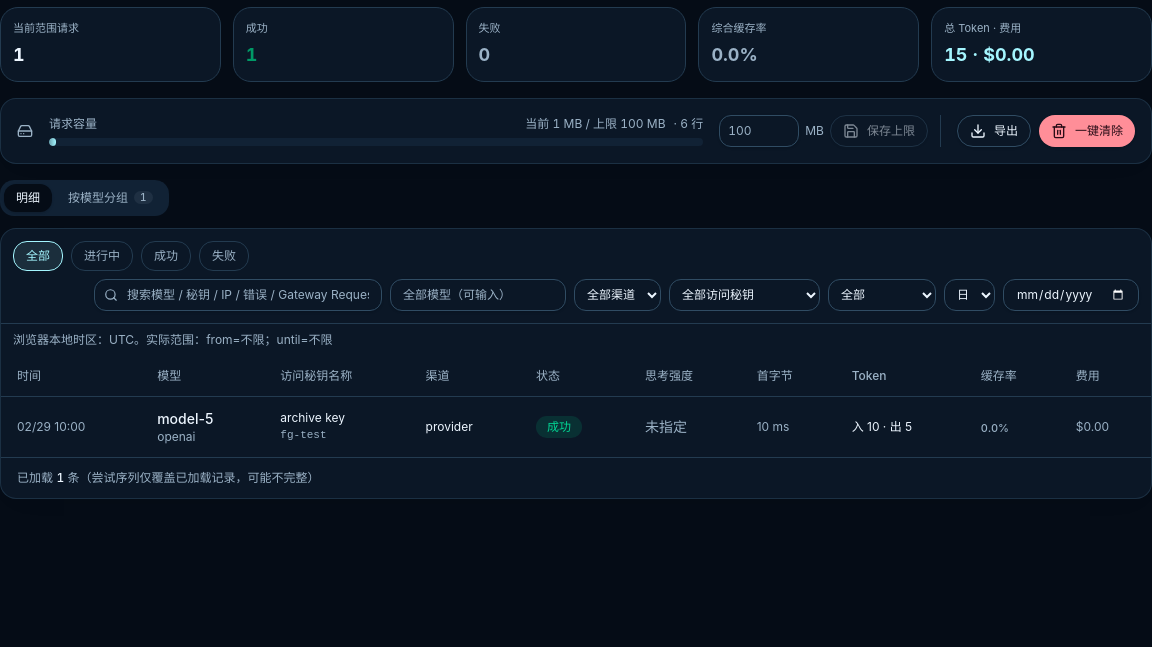
Test case: Requests routing diagnostics › lists candidate exclusions one per line instead of one JSON blob
Check: the text "model-5" is shown, box [157,410,213,426]
Click the text "model-5" at (576, 426), box [1,396,1151,456]
(page scrolled)
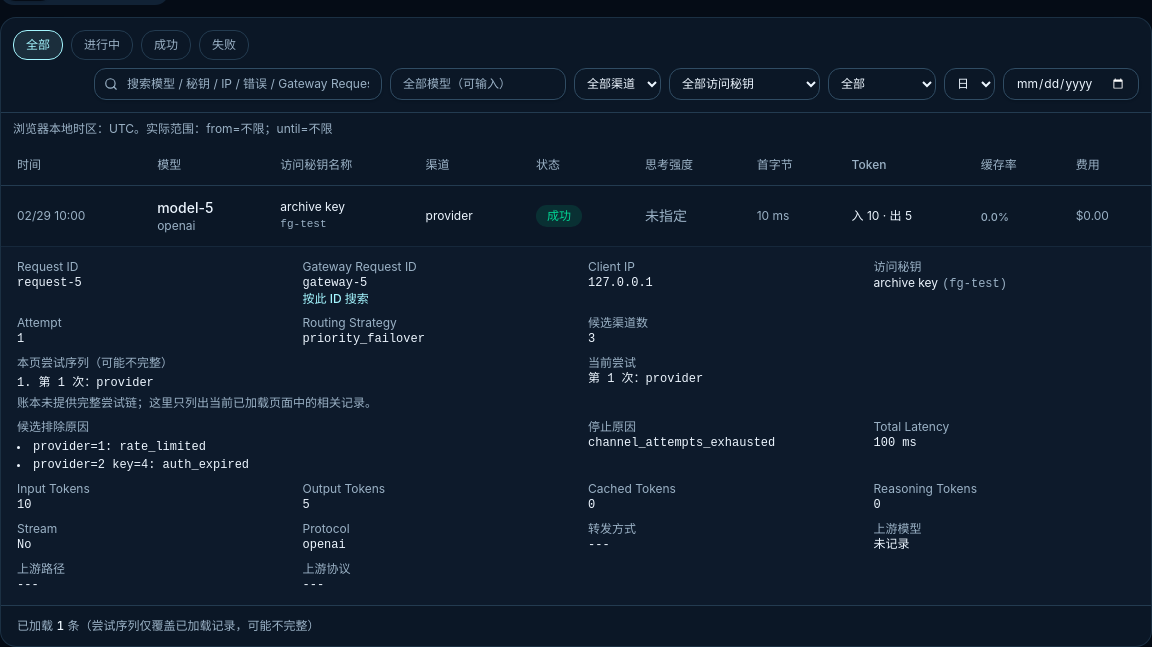
Check: the text "priority_failover" is shown, box [302,332,425,346]
Check: the text "channel_attempts_exhausted" is shown, box [588,436,775,450]
Check: the list item "provider=1: rate_limited" is shown, box [33,440,206,454]
